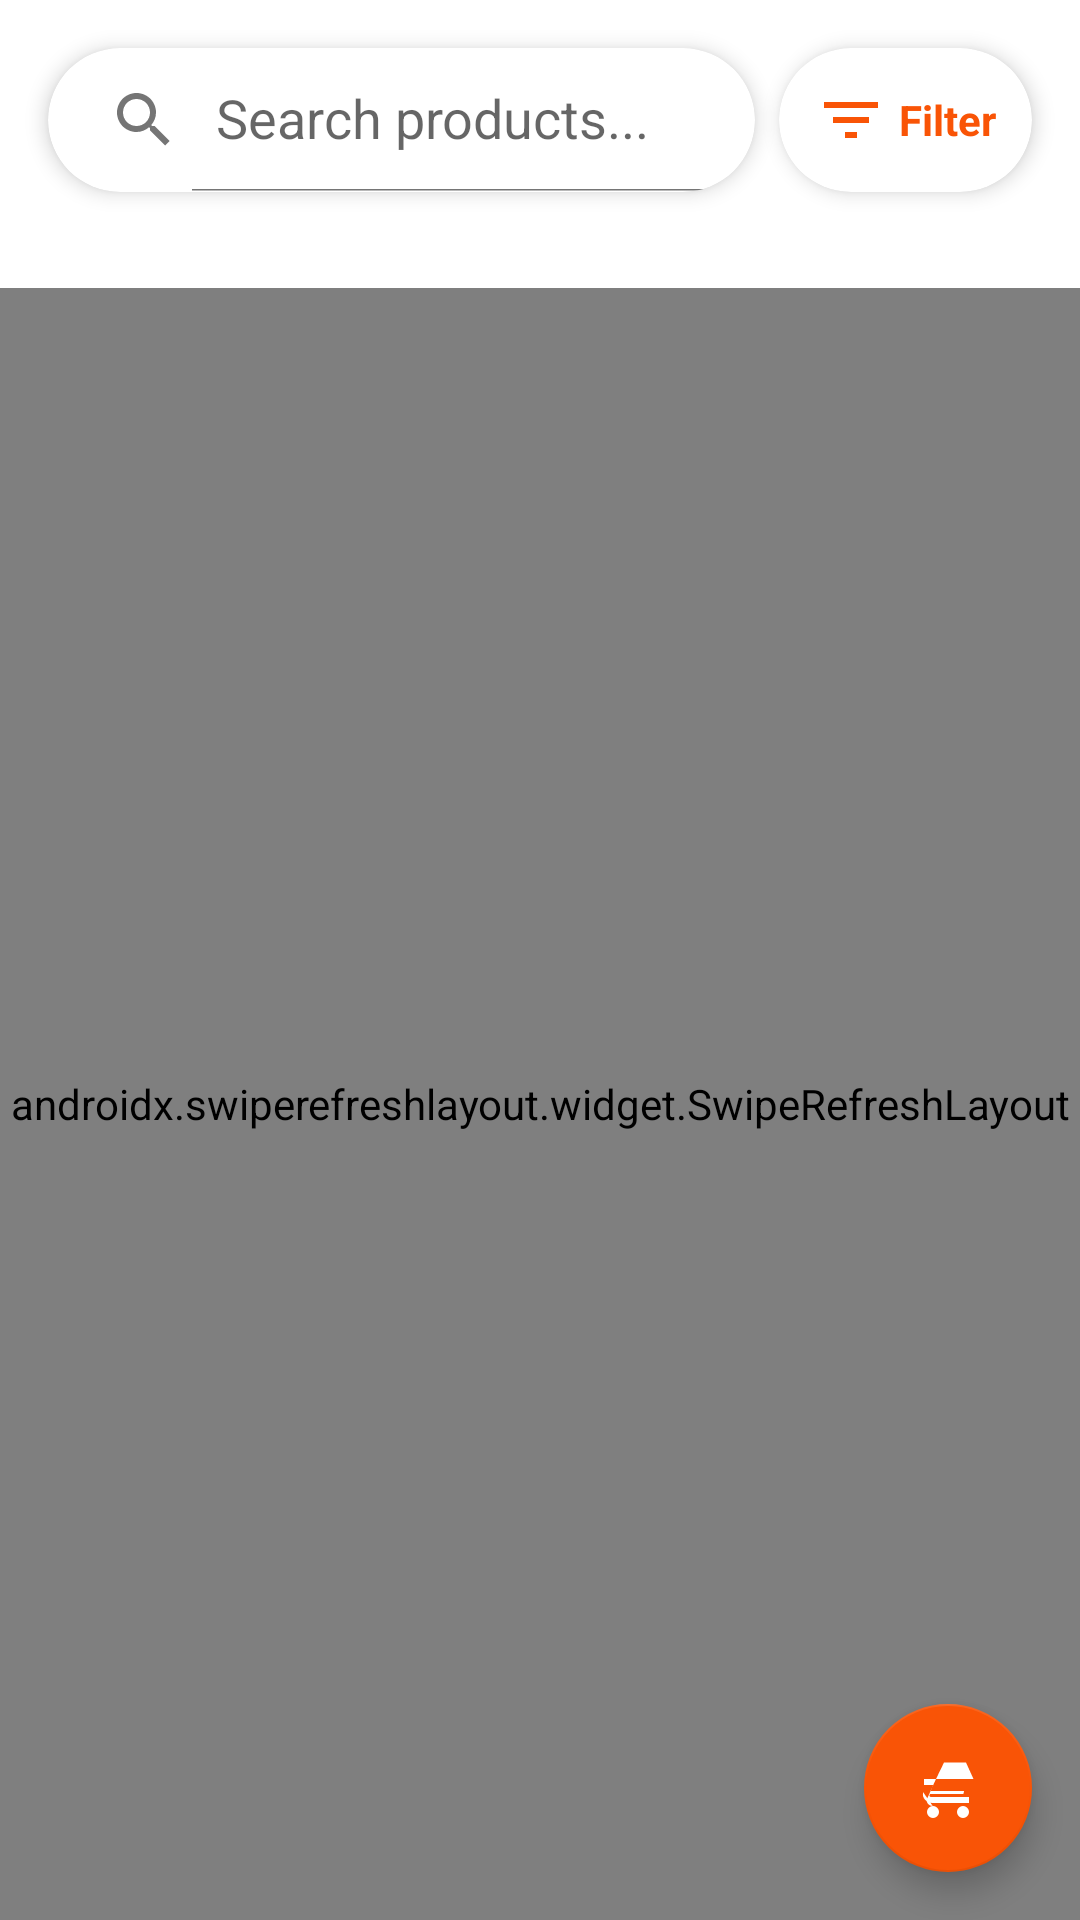

Icon bounding boxes for this 1080 × 1920 phone screenshot, format [x1=x1, y1=y1, x2=x2, y2=y2]:
View Cart: [x1=864, y1=1704, x2=1032, y2=1872]
